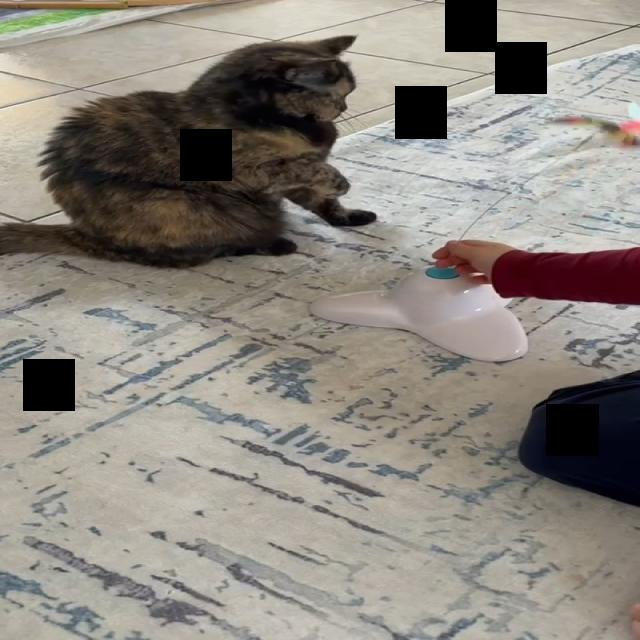authorized: (0, 33, 377, 269)
